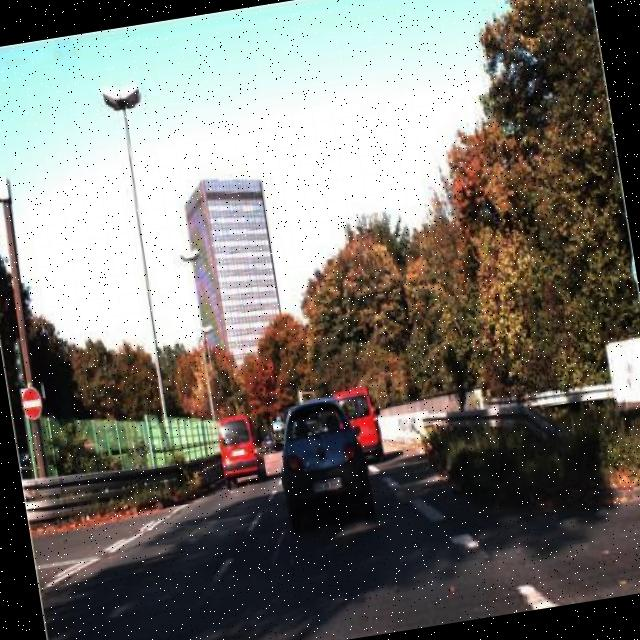Zakaz wjazdu: (18, 380, 46, 424)
